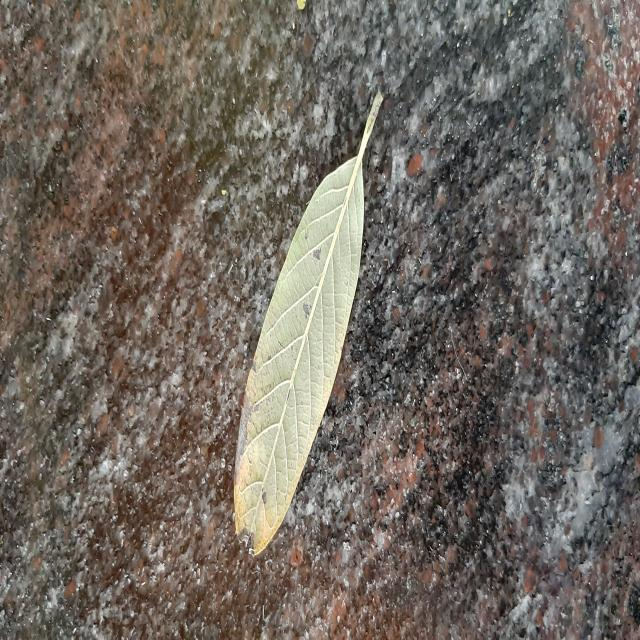leaf spot: (234, 92, 382, 553)
